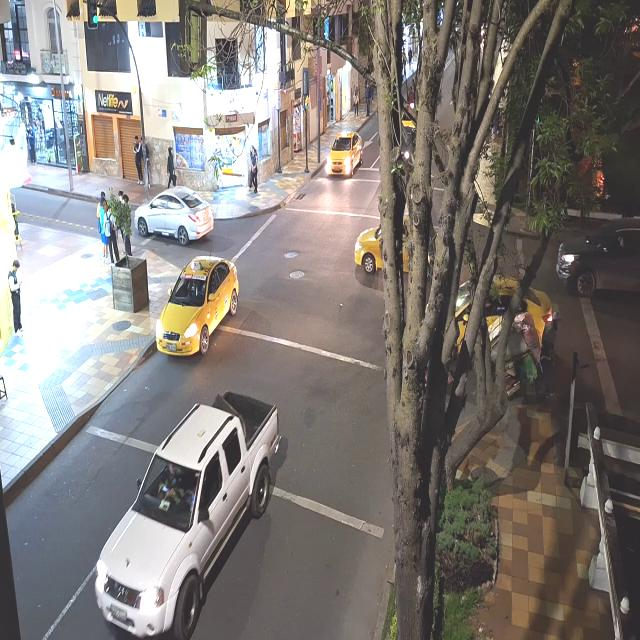CMT: (92, 387, 274, 634)
SED: (163, 258, 229, 353), (136, 190, 212, 240), (330, 134, 360, 178)
SUV: (555, 222, 638, 295)
